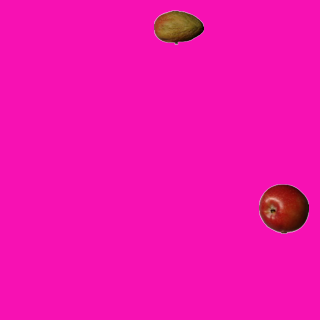Apple Braeburn: (258, 183, 308, 233)
Papaya: (153, 2, 203, 52)
